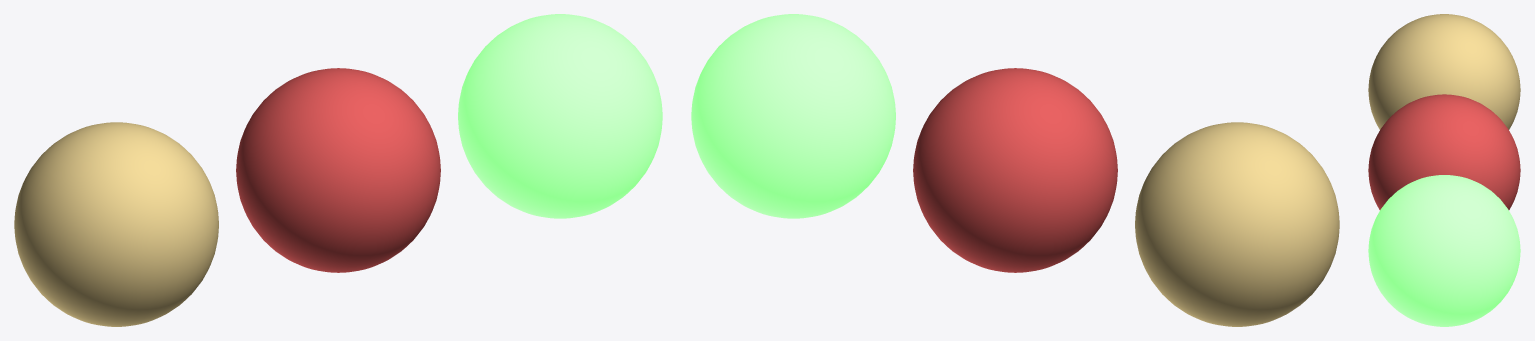
Rendered from gltf_pbr.glb.
The picture shows the model from 3 angles, left to right: view 1: azimuth 30°, elevation 25°; view 2: azimuth 150°, elevation 25°; view 3: azimuth 270°, elevation 25°; orthographic projection. The views are drawn at different scales.
Parts seen in each view (by area): view 1: Metal, Plastic, Glow; view 2: Metal, Plastic, Glow; view 3: Glow, Metal, Plastic.
Boxes of the visible parts, x1,y1,x2,y2 form: Metal: (14,122,218,326); Plastic: (236,68,440,272); Glow: (458,14,662,218); Metal: (1135,122,1339,326); Plastic: (913,68,1117,272); Glow: (691,14,895,218); Glow: (1368,175,1520,326); Metal: (1368,14,1520,129); Plastic: (1368,94,1520,209).
Bounding box in the file's own units: 5.6 × 1.6 × 1.6.
